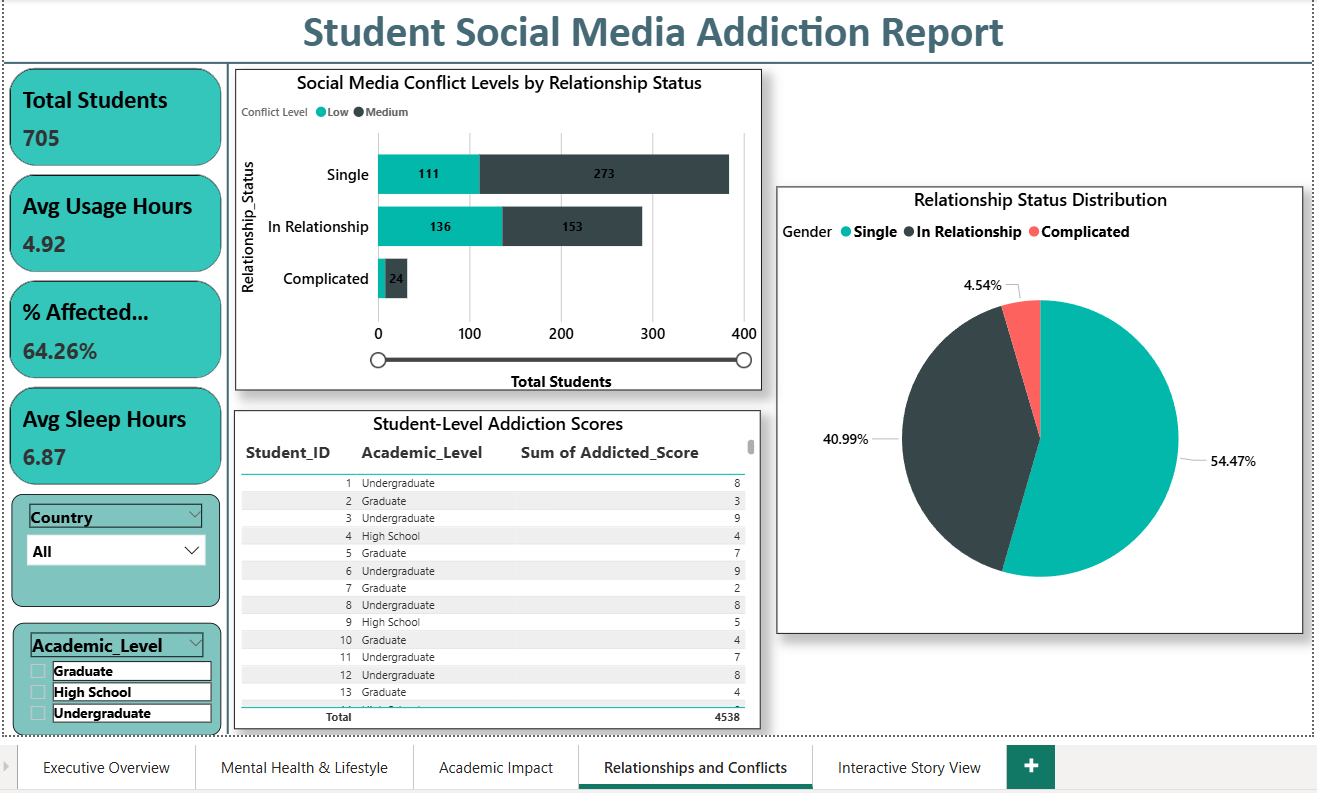

The page's visual inventory and layout, read from the dashboard file:
{"tool":"powerbi","page":{"name":"Relationships and Conflicts","canvas":[1280,720],"ordinal":3},"visuals":[{"type":"textbox","box":[0,0,1280.3,63.6],"z":0},{"type":"shape","box":[0,56.2,1280,12.5],"z":1000},{"type":"shape","box":[212.8,62.4,12.2,656.7],"z":2000},{"type":"cardVisual","fields":{"Data":["CountNonNull(Student_details.Student_ID)","Platform_Details.Avg Usage Hours","Platform_Details.% Affected Academically","Student_details.Avg Sleep Hours"]},"box":[0,62.4,218.9,421.9],"z":3000},{"type":"tableEx","title":"Student-Level Addiction Scores","fields":{"Values":["Student_details.Student_ID","Student_details.Academic_Level","Sum(Student_details.Addicted_Score)"]},"box":[225,402.3,514.8,311.8],"z":4000},{"type":"pieChart","title":"Relationship Status Distribution","fields":{"Category":["Student_details.Relationship_Status"],"Y":["CountNonNull(Student_details.Student_ID)"]},"box":[755.7,183.4,514.8,437.8],"z":5000},{"type":"barChart","title":"Social Media Conflict Levels by Relationship Status","fields":{"Category":["Student_details.Relationship_Status"],"Y":["CountNonNull(Student_details.Student_ID)"],"Series":["Student_details.Conflict Level"]},"box":[226.2,68.5,514.8,314.3],"z":6000},{"type":"slicer","fields":{"Values":["Student_details.Academic_Level"]},"box":[8.6,609.9,204.2,110.1],"z":7000},{"type":"slicer","fields":{"Values":["Student_details.Country"]},"box":[7.3,484.2,204.2,110.1],"z":8000}]}

Visuals, with their boxes on the page's 1280x720 design canvas (x1, y1, x2, y2). These are canvas units, not pixel positions in the 1317x793 screenshot, which may show the page scaled, cropped or inside an application window:
textbox: rect(0, 0, 1280, 64)
shape: rect(0, 56, 1280, 69)
shape: rect(213, 62, 225, 719)
cardVisual - CountNonNull(Student_details.Student_ID) x Platform_Details.Avg Usage Hours: rect(0, 62, 219, 484)
"Student-Level Addiction Scores" tableEx: rect(225, 402, 740, 714)
"Relationship Status Distribution" pieChart: rect(756, 183, 1270, 621)
"Social Media Conflict Levels by Relationship Status" barChart: rect(226, 68, 741, 383)
slicer - Student_details.Academic_Level: rect(9, 610, 213, 720)
slicer - Student_details.Country: rect(7, 484, 212, 594)
